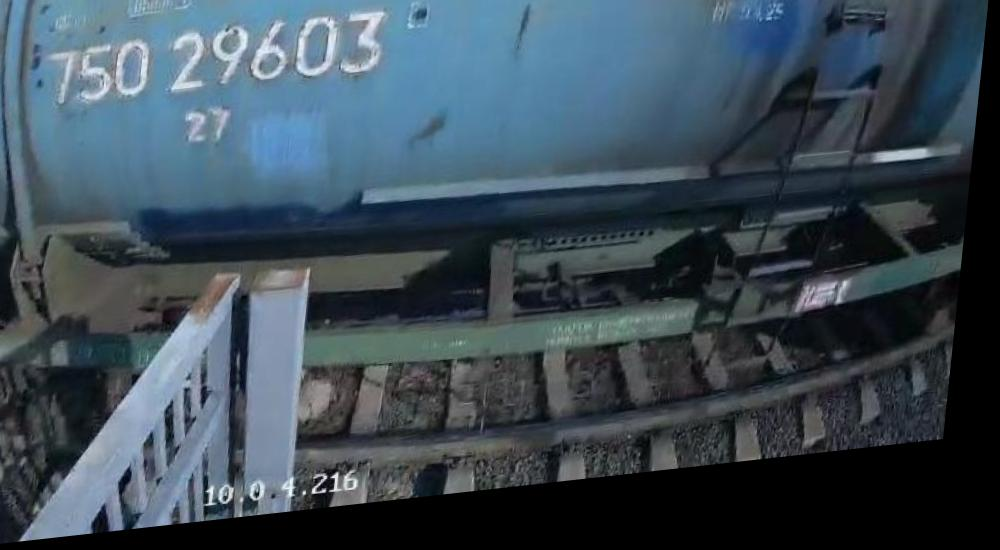Wagon-number: (46, 13, 393, 116)
